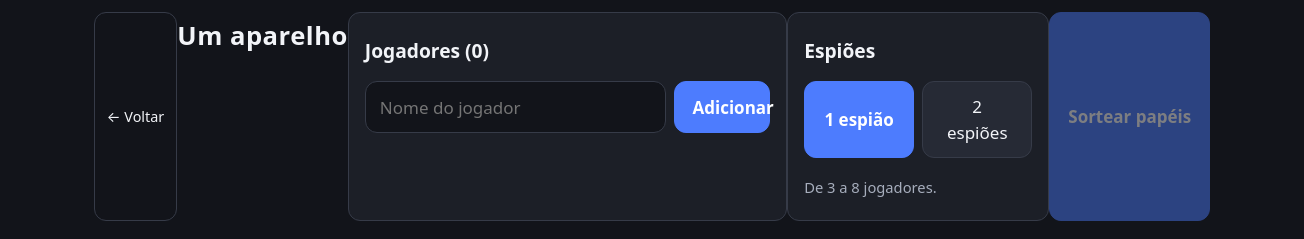
Test: modo um aparelho › recusa nome repetido ignorando acentos e caixa
Type "João" into the field labelled "Nome do jogador".
click(515, 107); type("João")  # box [365,81,666,133]
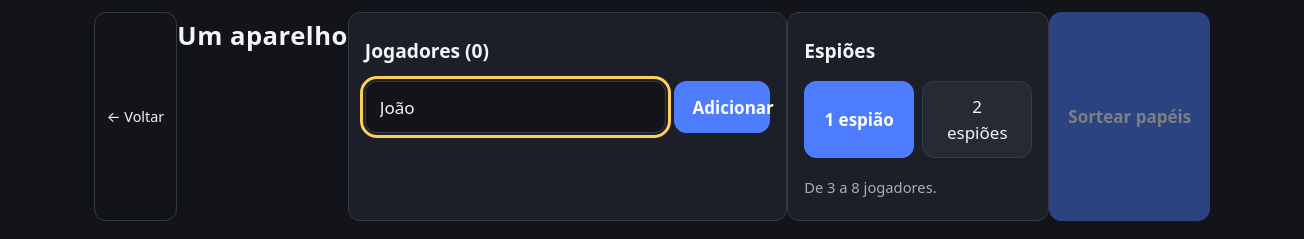
Click the button "Adicionar".
click(722, 107)  # box [674,81,770,133]
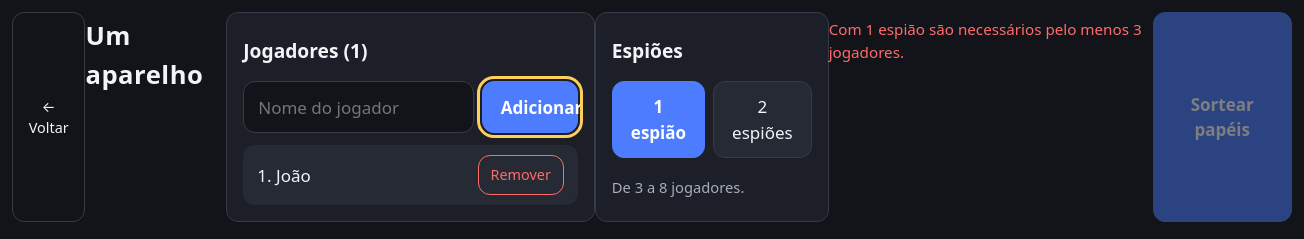
Type "joao" into the field labelled "Nome do jogador".
click(359, 107); type("joao")  # box [243,81,474,133]
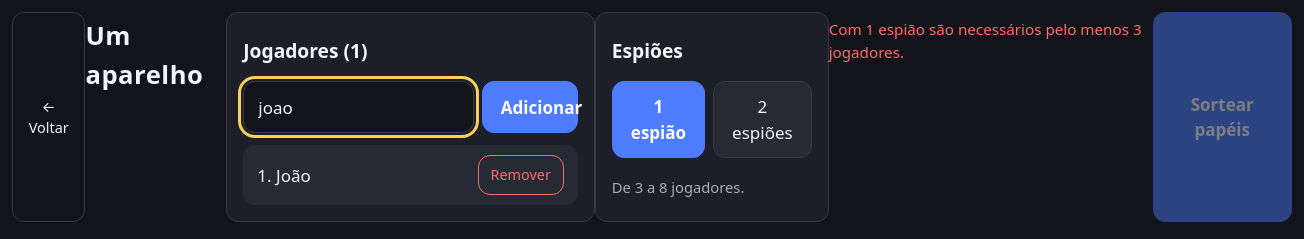
Click the button "Adicionar".
click(530, 107)  # box [482,81,578,133]
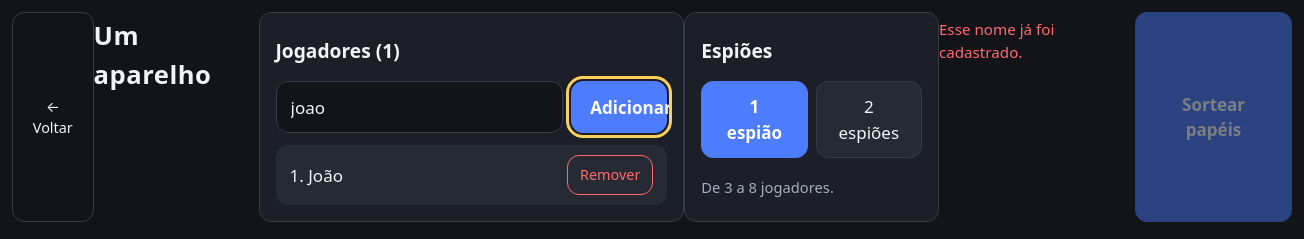
expect the heading "Jogadores (1)" is shown: met, box [276,37,400,64]
expect the message shows "já foi cadastrado": met, box [939,19,1054,62]
